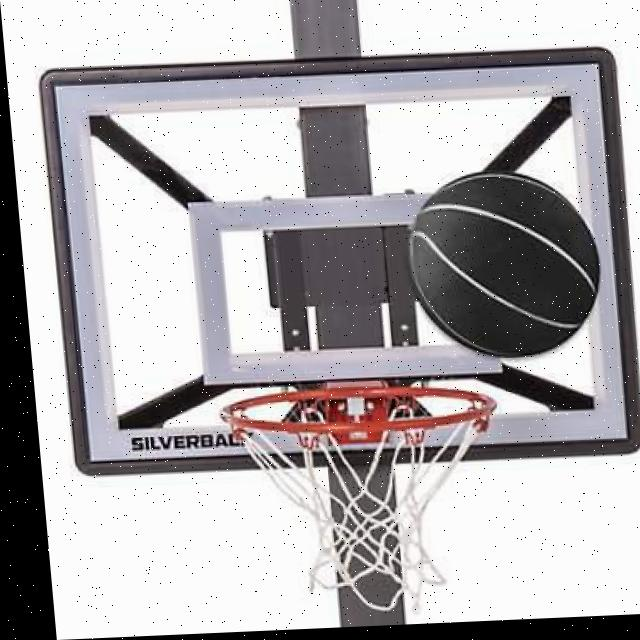basketball: (401, 167, 606, 363)
hoop: (222, 383, 515, 619)
